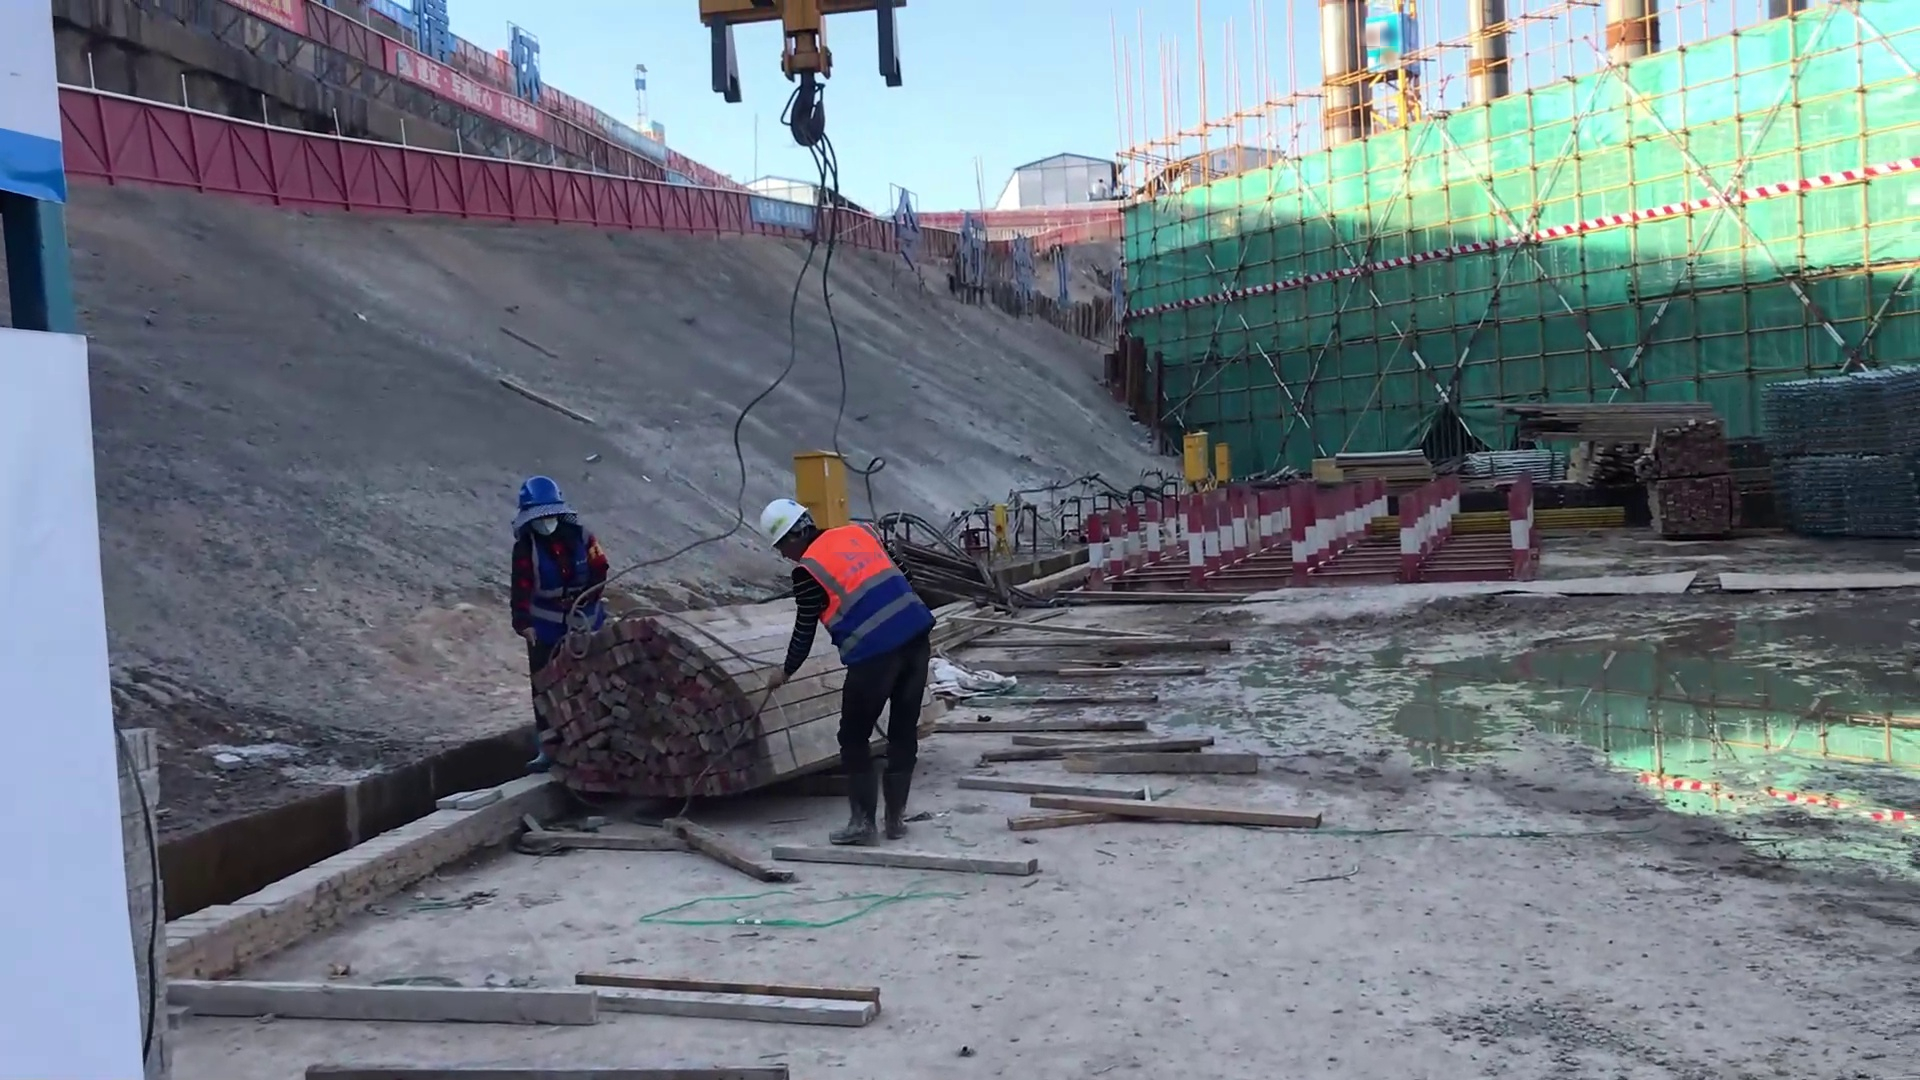ebox: (780, 438, 855, 535), (1179, 431, 1208, 489), (1210, 438, 1229, 483)
fence: (59, 87, 440, 230), (429, 154, 755, 238)
helmet: (752, 488, 813, 552), (515, 470, 569, 531)
hook: (690, 1, 911, 178)
person: (757, 498, 940, 847), (508, 472, 608, 639)
vest: (798, 540, 902, 644), (526, 538, 594, 630)
wood: (970, 576, 1317, 856), (512, 613, 755, 830), (1489, 378, 1723, 456)
